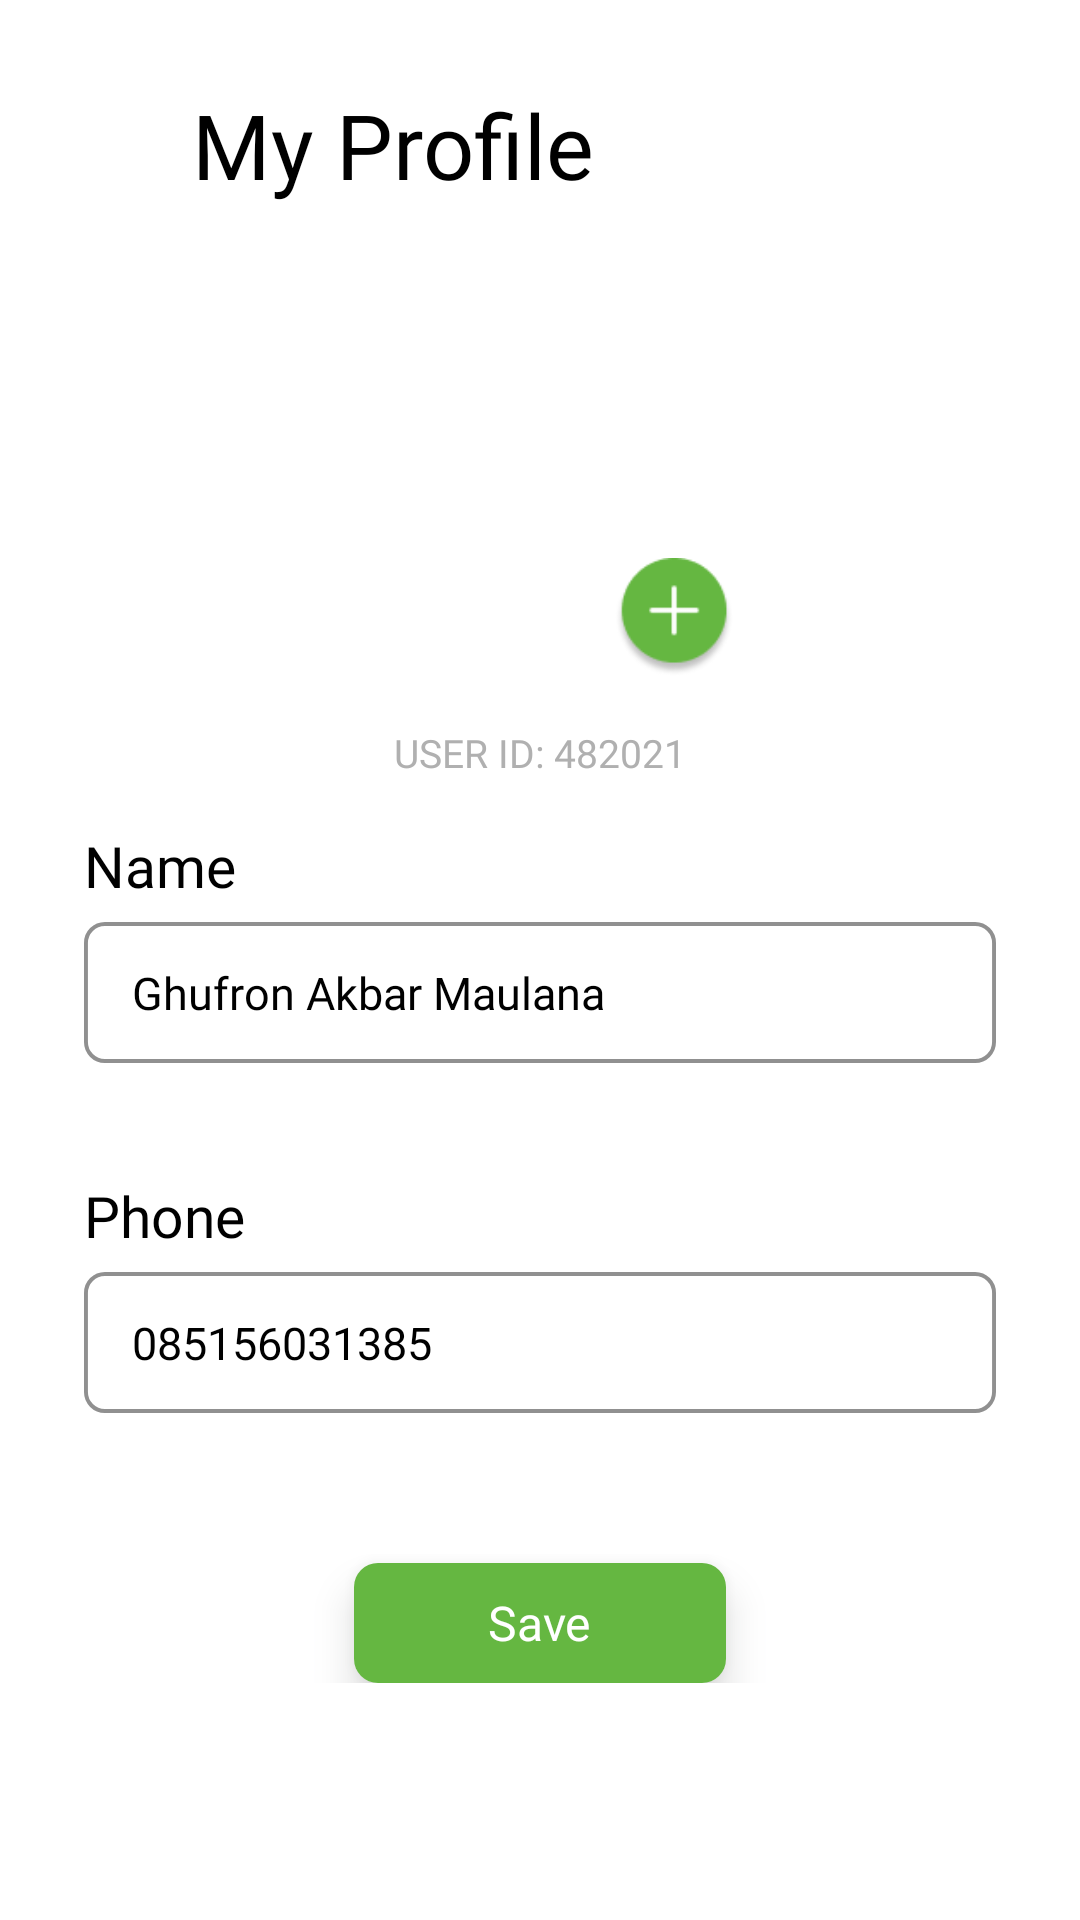

Where to tap for icons on this 1080px×1920px app screen, as (x,y):
fab: (674,614)
